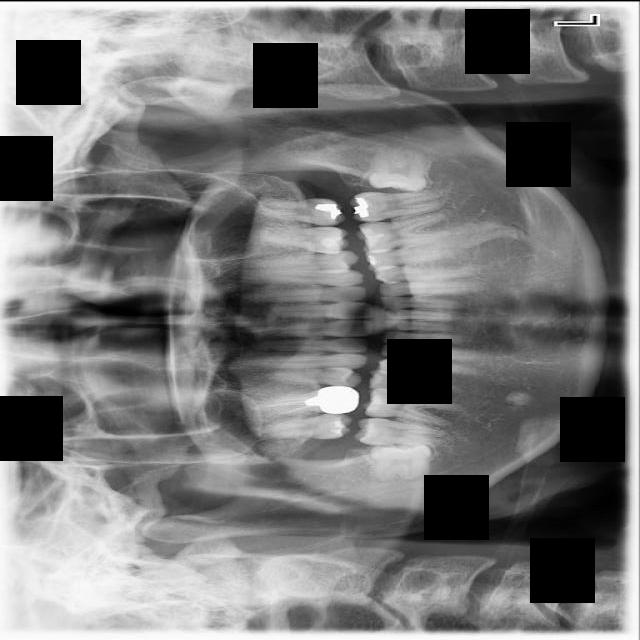52: (353, 215, 403, 256), (347, 187, 393, 225), (312, 224, 351, 255), (317, 385, 359, 413), (317, 411, 355, 441), (310, 197, 347, 226)
73: (250, 388, 326, 423)
BioHorizons Implant: (246, 188, 349, 228)
Biomet 3i Implant: (367, 143, 431, 193)
Blue Sky Bio Implant: (349, 190, 441, 222)
Caries: (252, 412, 354, 438)
Implant: (353, 415, 448, 451)
Keystone Dental Implant: (369, 439, 434, 482)
